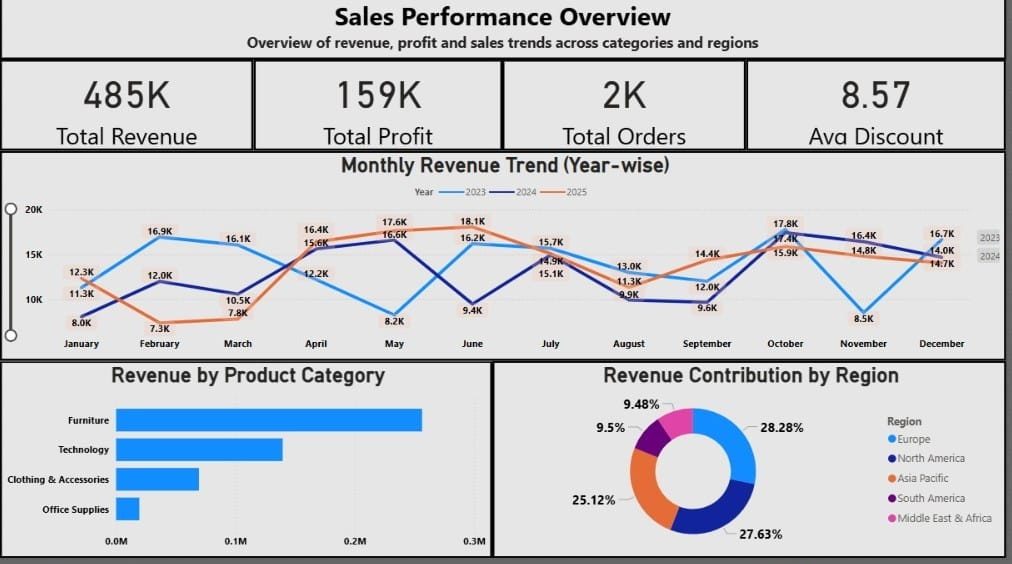

What the dashboard file says about the page in this screenshot:
{"tool":"powerbi","page":{"name":"Sales Overview","canvas":[1280,720],"ordinal":0},"visuals":[{"type":"card","fields":{"Values":["global_ecommerce_sales_dataset.Total Revenue"]},"box":[0,85.9,322.9,116.1],"z":0},{"type":"card","fields":{"Values":["global_ecommerce_sales_dataset.Total Profit"]},"box":[322.9,85.9,316.5,116.1],"z":1000},{"type":"card","fields":{"Values":["global_ecommerce_sales_dataset.Total Orders"]},"box":[639.4,85.9,310.2,116.1],"z":2000},{"type":"card","fields":{"Values":["global_ecommerce_sales_dataset.Avg Discount"]},"box":[949.6,85.9,330.8,116.1],"z":3000},{"type":"clusteredBarChart","title":"Revenue by Product Category","fields":{"Category":["global_ecommerce_sales_dataset.Product_Category"],"Y":["global_ecommerce_sales_dataset.Total Revenue"]},"box":[0,469.2,626.7,251.3],"z":4000},{"type":"lineChart","title":"Monthly Revenue Trend (Year-wise) ","fields":{"Category":["global_ecommerce_sales_dataset.Order_Date.Variation.Date Hierarchy.Month"],"Series":["global_ecommerce_sales_dataset.Year"],"Y":["global_ecommerce_sales_dataset.Total Revenue"]},"box":[0,202,1280.4,267.2],"z":5000},{"type":"donutChart","title":"Revenue Contribution by Region","fields":{"Y":["global_ecommerce_sales_dataset.Total Revenue"],"Category":["global_ecommerce_sales_dataset.Region"]},"box":[626.7,469.2,653.7,251.3],"z":6000},{"type":"textbox","box":[0,0,1280.4,85.9],"z":7000}]}

Visuals, with their boxes in screenshot pixels (x1, y1, x2, y2), scaled from the page's 1280x720 canvas onto the 1012x564 screenshot:
card - global_ecommerce_sales_dataset.Total Revenue: pyautogui.locateOnScreen(0, 67, 255, 158)
card - global_ecommerce_sales_dataset.Total Profit: pyautogui.locateOnScreen(255, 67, 506, 158)
card - global_ecommerce_sales_dataset.Total Orders: pyautogui.locateOnScreen(506, 67, 751, 158)
card - global_ecommerce_sales_dataset.Avg Discount: pyautogui.locateOnScreen(751, 67, 1011, 158)
"Revenue by Product Category" clusteredBarChart: pyautogui.locateOnScreen(0, 368, 495, 563)
"Monthly Revenue Trend (Year-wise) " lineChart: pyautogui.locateOnScreen(0, 158, 1011, 368)
"Revenue Contribution by Region" donutChart: pyautogui.locateOnScreen(495, 368, 1011, 563)
textbox: pyautogui.locateOnScreen(0, 0, 1011, 67)
